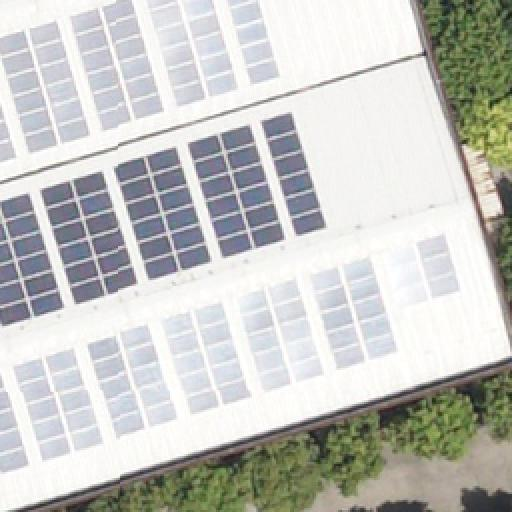solar-panel: (40, 170, 140, 306), (114, 146, 214, 282), (188, 127, 288, 257), (70, 1, 166, 135), (0, 19, 92, 157), (14, 346, 106, 462), (86, 322, 178, 438), (146, 1, 242, 111), (162, 299, 254, 413), (239, 275, 329, 389), (311, 255, 401, 369), (0, 191, 68, 329), (261, 113, 331, 239), (226, 1, 282, 87), (0, 367, 32, 473), (419, 231, 461, 297), (0, 96, 16, 164)
